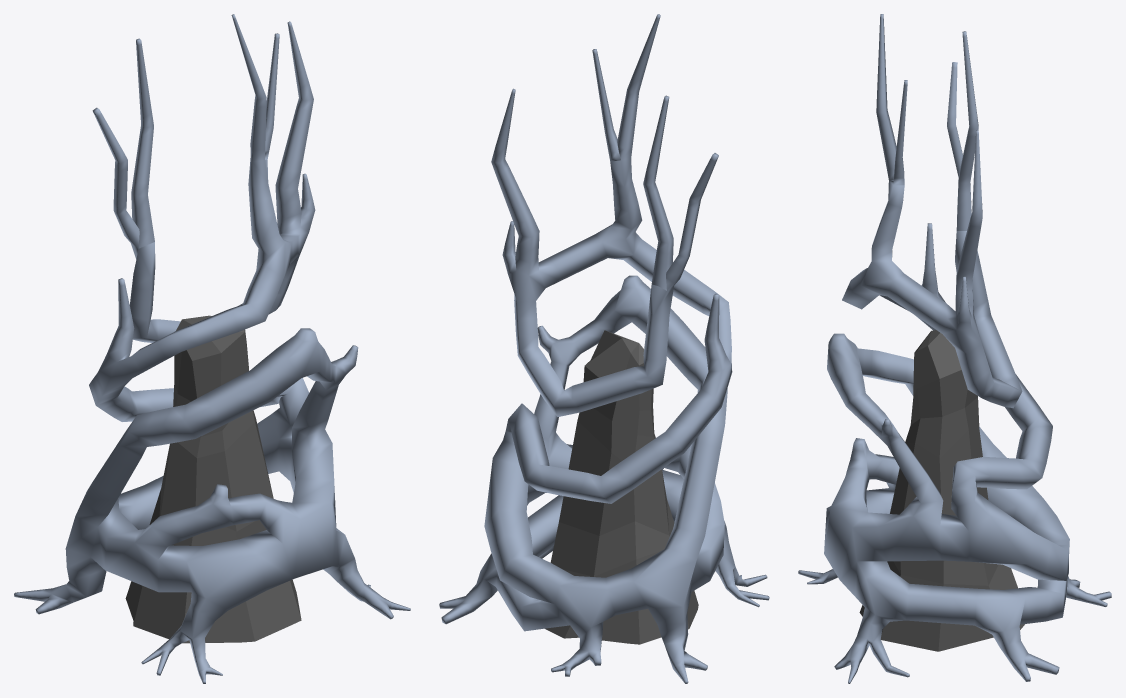
The model's file is Tower(3).fbx.
The picture shows the model from 3 angles, left to right: view 1: azimuth 30°, elevation 25°; view 2: azimuth 150°, elevation 25°; view 3: azimuth 270°, elevation 25°; orthographic projection. The views are drawn at different scales.
Visible parts, largest first — view 1: Vert.006, Cylinder.001; view 2: Vert.006, Cylinder.001; view 3: Vert.006, Cylinder.001.
Boxes of the visible parts, x1,y1,x2,y2 form: Vert.006: (14, 14, 410, 683); Cylinder.001: (125, 315, 301, 643); Vert.006: (439, 14, 769, 683); Cylinder.001: (545, 330, 698, 644); Vert.006: (798, 14, 1111, 683); Cylinder.001: (859, 330, 1024, 651).
Bounding box in the file's own units: 333 × 692 × 330.
